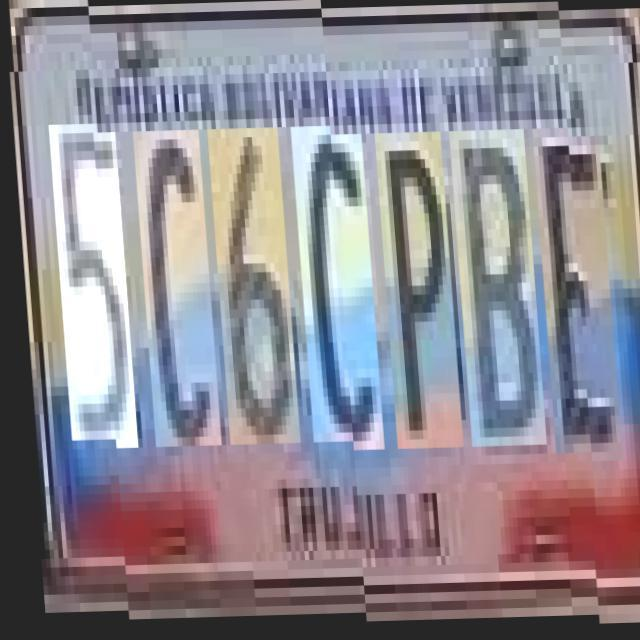5: (47, 133, 132, 450)
6: (205, 129, 294, 446)
B: (446, 124, 539, 440)
C: (288, 127, 376, 444), (130, 131, 214, 448)
E: (530, 121, 614, 448)
P: (372, 125, 456, 442)
